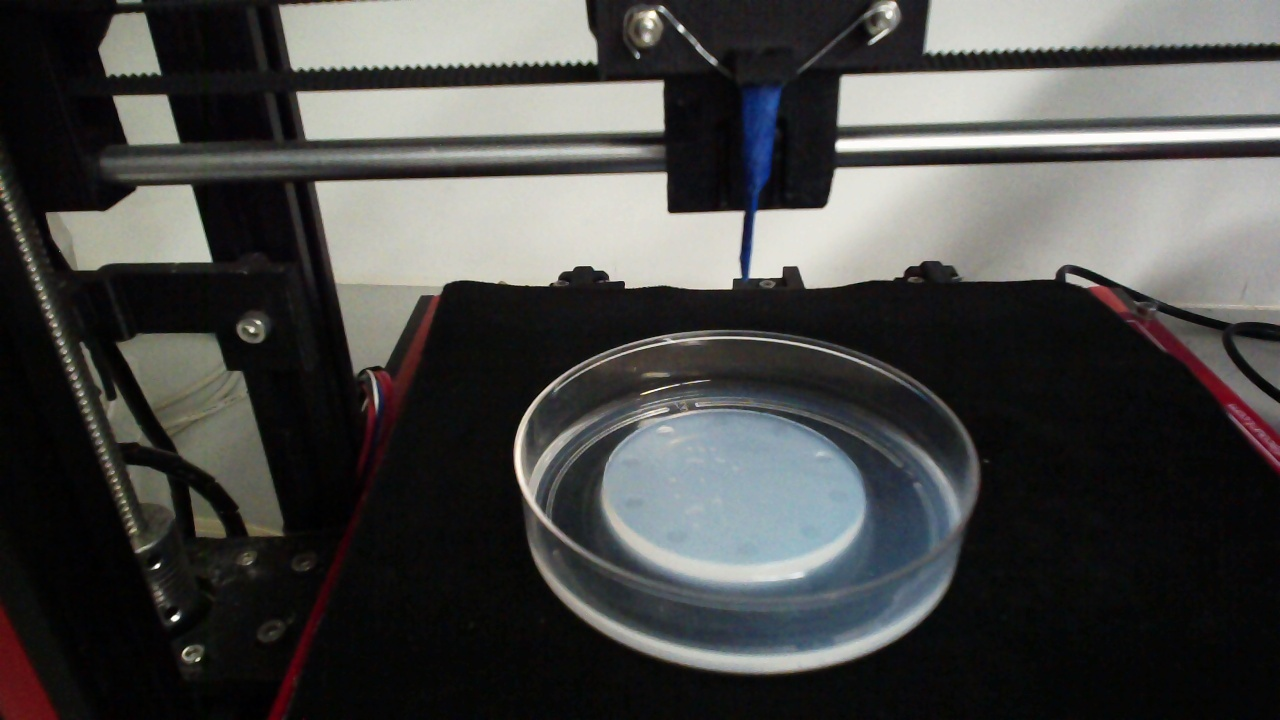groove: (799, 521, 823, 542), (828, 487, 851, 505), (736, 541, 758, 559), (665, 529, 687, 545), (618, 455, 642, 469), (813, 450, 834, 466), (710, 413, 731, 429), (770, 421, 790, 437), (622, 496, 644, 510), (655, 424, 674, 439)
needle: (739, 87, 778, 279)
